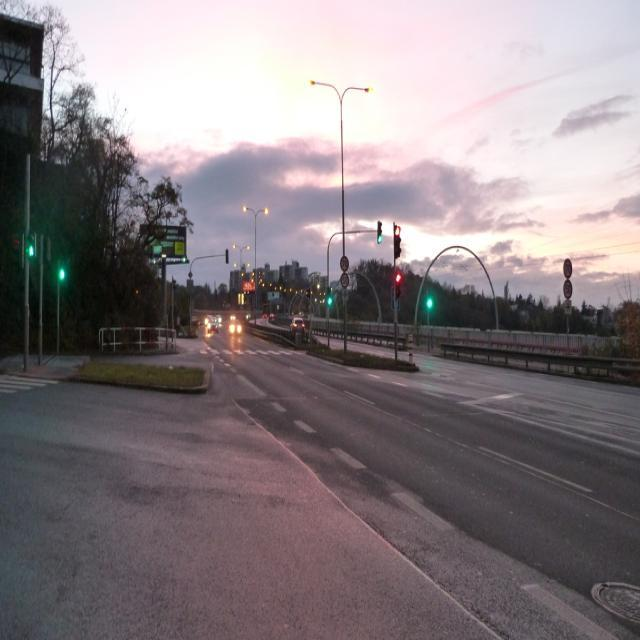traffic light: (392, 268, 405, 298), (393, 224, 403, 260), (376, 221, 384, 247)
